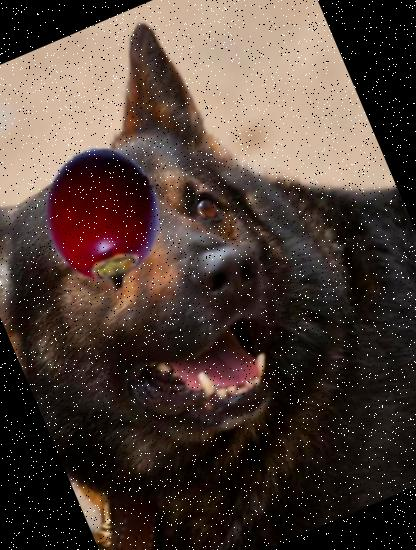Tamarillo: (12, 125, 197, 310)
